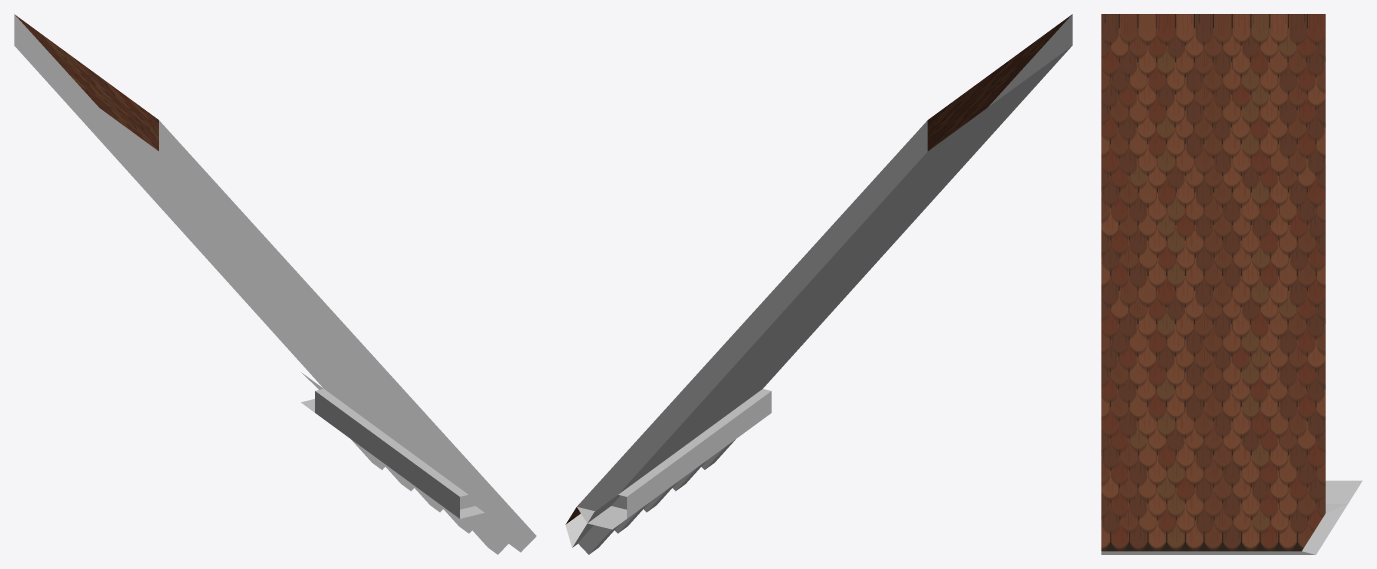
The model's file is Roof_Line_Angle_01_B.FBX.
3 views of the same model, side by side, from view 1: azimuth 30°, elevation 25°; view 2: azimuth 150°, elevation 25°; view 3: azimuth 270°, elevation 25° (orthographic). The views are drawn at different scales.
Parts seen in each view (by area): view 1: Roof_Line_Angle_01_B; view 2: Roof_Line_Angle_01_B; view 3: Roof_Line_Angle_01_B.
Part boxes in pixels (left/top/right/bottom): Roof_Line_Angle_01_B: left=14, top=14, right=536, bottom=554; Roof_Line_Angle_01_B: left=565, top=14, right=1072, bottom=554; Roof_Line_Angle_01_B: left=1101, top=14, right=1362, bottom=554.
Bounding box in the file's own units: 7.53 × 10.04 × 5.82.
